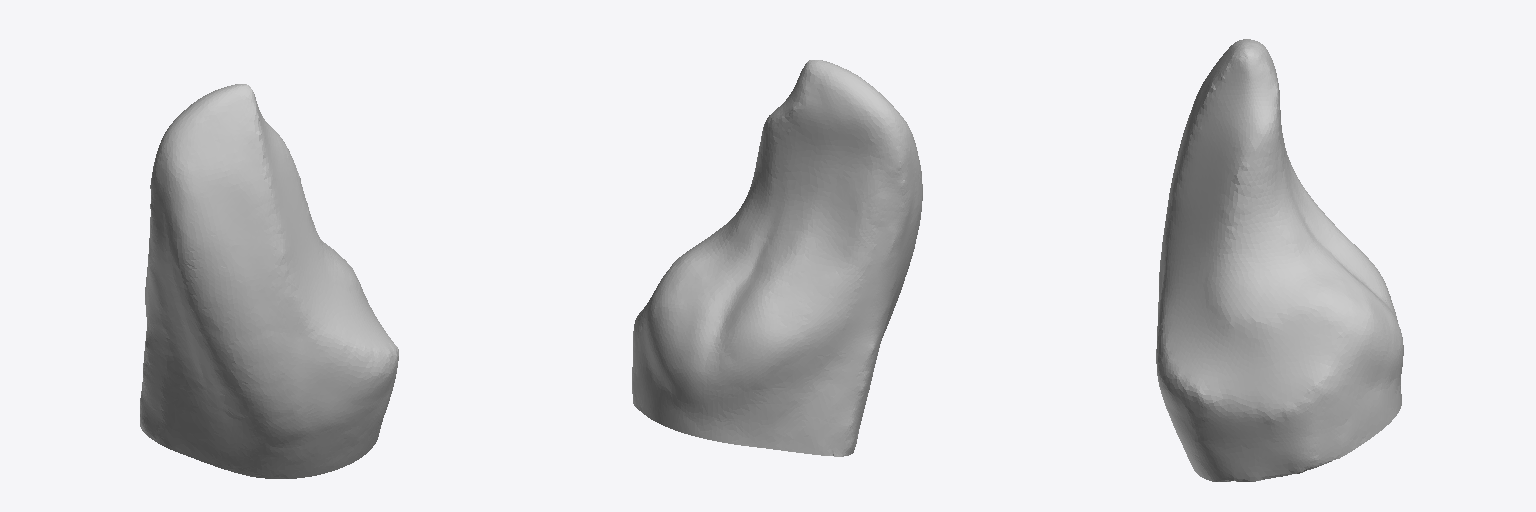
Rendered from TPH_ST_Effects_Teeth_3d_1.obj.
3 views of the same model, side by side, from view 1: azimuth 30°, elevation 25°; view 2: azimuth 150°, elevation 25°; view 3: azimuth 270°, elevation 25° (orthographic).
Parts seen in each view (by area): view 1: mmGroup329; view 2: mmGroup329; view 3: mmGroup329.
Part boxes in pixels (x1,y1,x2,y2): mmGroup329: (140, 84, 398, 478); mmGroup329: (632, 60, 922, 456); mmGroup329: (1156, 39, 1403, 481).
Size of the model in its own units: 1.06 by 1.6 by 0.9407.